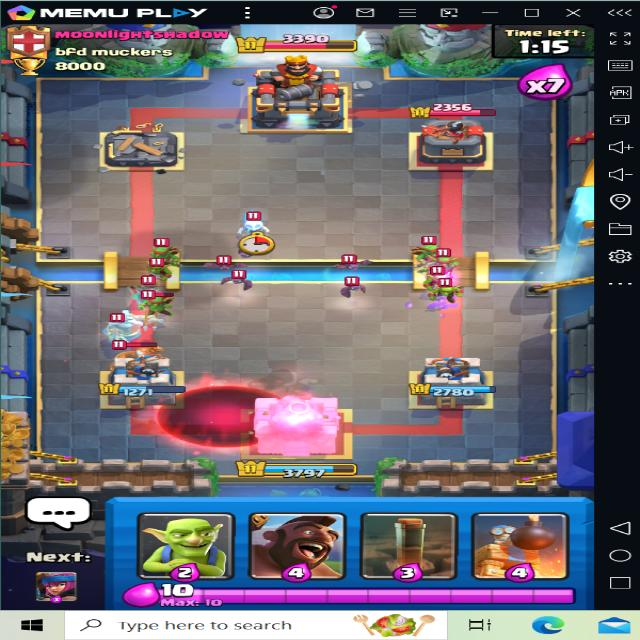bats: (336, 272, 379, 294), (207, 252, 250, 274), (222, 269, 260, 290), (336, 256, 368, 276)
goblin: (422, 282, 470, 306), (388, 235, 424, 264), (136, 257, 173, 283)
ice-spirit: (232, 208, 273, 236)
monk: (104, 338, 169, 376)
spear-goblin: (139, 236, 188, 263), (130, 290, 172, 321), (425, 242, 462, 276), (412, 232, 448, 264)
void: (146, 384, 294, 452)
